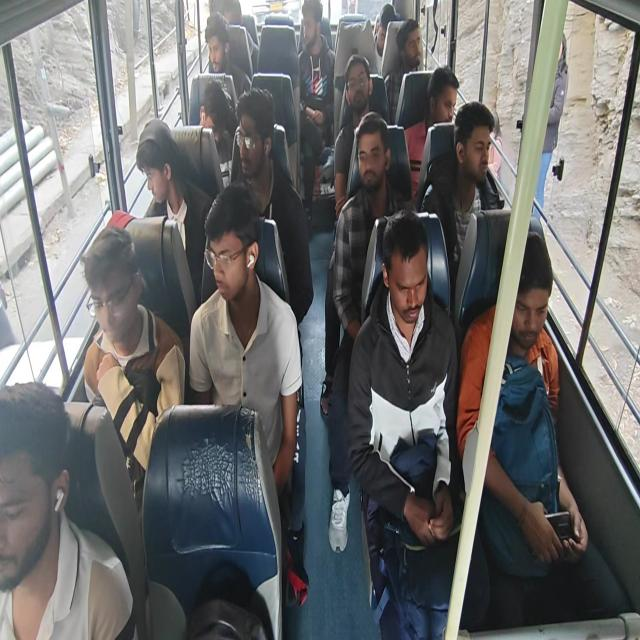person: (456, 229, 630, 626), (346, 208, 490, 638), (188, 181, 308, 604), (320, 111, 414, 553), (0, 380, 136, 639), (81, 224, 185, 518), (230, 86, 314, 329), (420, 100, 503, 302), (135, 118, 211, 306), (297, 0, 335, 223), (404, 66, 459, 199), (333, 53, 374, 221), (533, 31, 569, 217), (202, 12, 250, 98), (198, 79, 236, 185), (384, 18, 422, 123), (221, 0, 259, 75), (478, 109, 505, 210), (373, 1, 397, 74)
